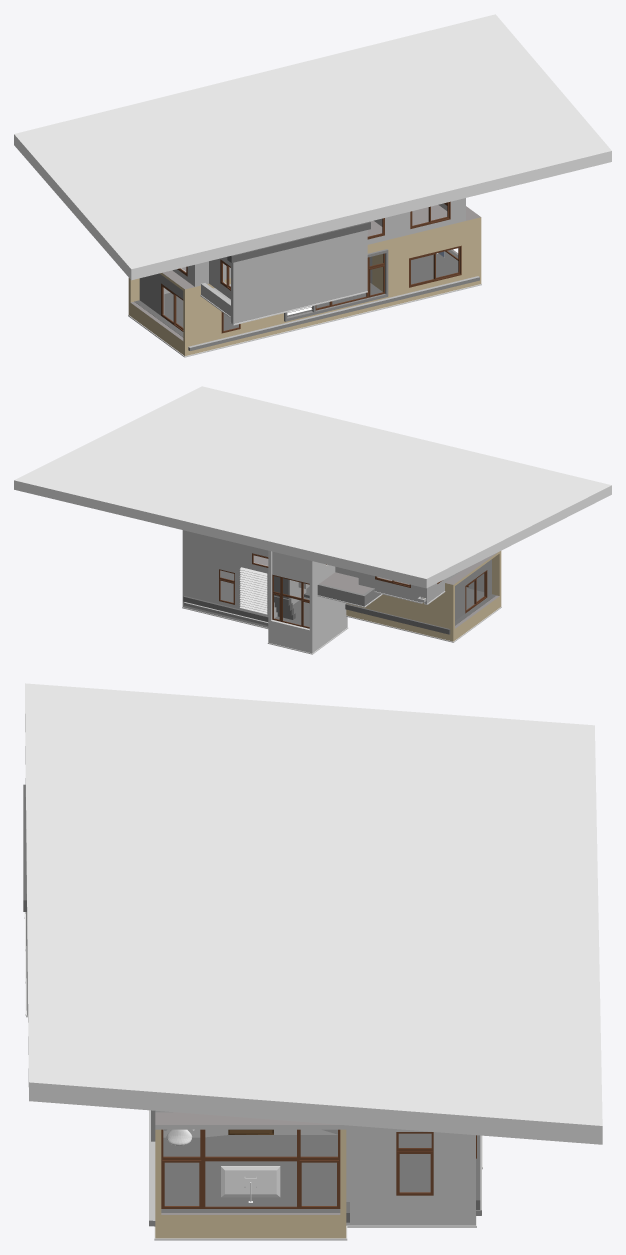
File: CasaConEscaleraMejorada.fbx
3 renders of one model, top to bottom at view 1: azimuth 30°, elevation 25°; view 2: azimuth 150°, elevation 25°; view 3: azimuth 270°, elevation 25°, orthographic. The views are drawn at different scales.
Visible parts, largest first — view 1: Material37, Material6, Material10, Material11, Cube (3) 1, Material15, Material13, Cube (4), Material4; view 2: Material37, Material6, Material40, Material10, Material11, Material15, Cube (3) 1, Material13, Material7, Cube (4) 1, Material4, Cube (5) 1; view 3: Material37, Material6, Cube (3) 1, Material10, Material15, Cube (4) 1, Material18, Material13, Material4.
Boxes of the visible parts, <box> form: Material37: <box>14,14,611,280</box>; Material6: <box>163,198,479,347</box>; Material10: <box>128,217,481,355</box>; Material11: <box>139,249,479,350</box>; Cube (3) 1: <box>134,250,458,337</box>; Material15: <box>161,201,461,333</box>; Material13: <box>131,205,480,340</box>; Cube (4): <box>227,221,370,262</box>; Material4: <box>128,283,481,357</box>; Material37: <box>14,386,611,588</box>; Material6: <box>182,530,484,627</box>; Material40: <box>268,550,347,653</box>; Material10: <box>346,551,501,641</box>; Material11: <box>184,559,491,625</box>; Material15: <box>219,553,487,628</box>; Cube (3) 1: <box>220,570,496,634</box>; Material13: <box>254,552,499,628</box>; Material7: <box>239,567,267,614</box>; Cube (4) 1: <box>183,573,268,621</box>; Material4: <box>182,591,501,654</box>; Cube (5) 1: <box>275,597,309,626</box>; Material37: <box>25,683,602,1144</box>; Material6: <box>25,912,481,1225</box>; Cube (3) 1: <box>161,1129,349,1222</box>; Material10: <box>155,1129,346,1238</box>; Material15: <box>161,1129,476,1208</box>; Cube (4) 1: <box>398,1133,480,1209</box>; Material18: <box>221,1166,280,1202</box>; Material13: <box>155,1112,340,1214</box>; Material4: <box>24,912,482,1240</box>.
Size of the model in its own units: 25.31 by 6.97 by 14.
